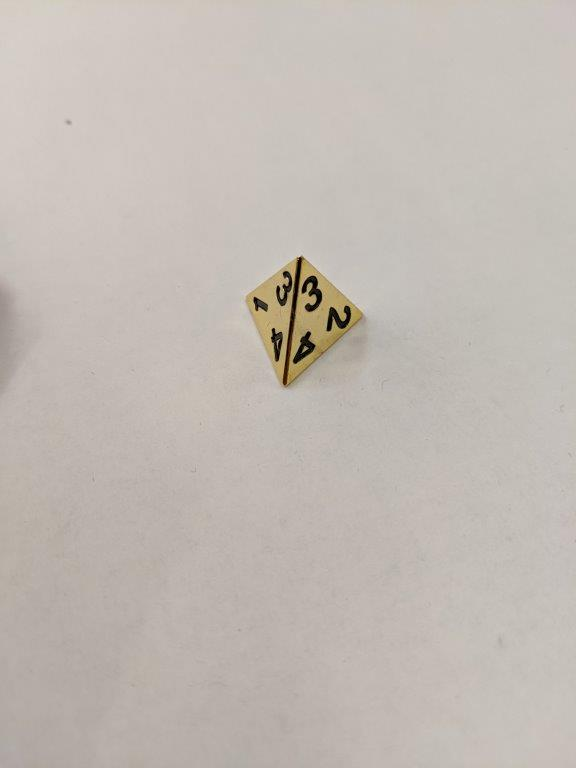d4-3: (241, 255, 368, 391)
